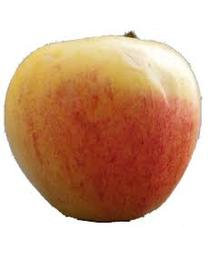apple: (4, 30, 202, 224)
